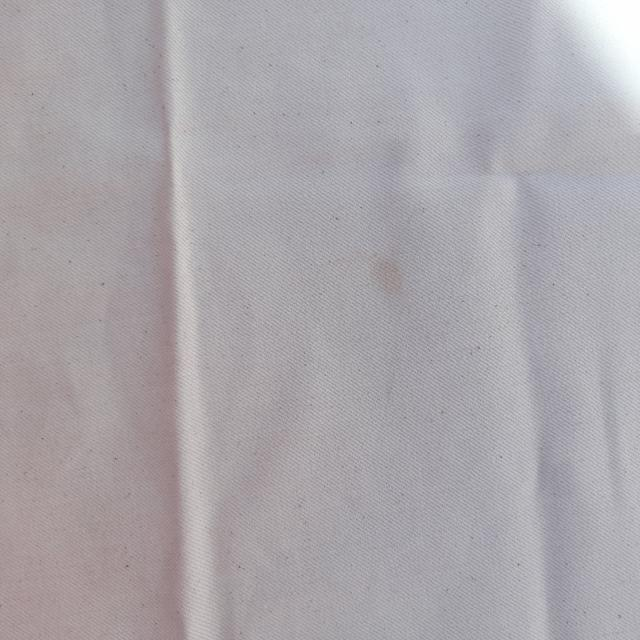taaaches: (372, 232, 408, 308)
